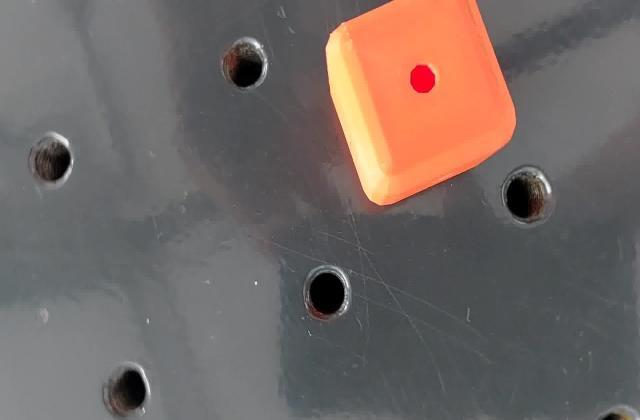cube: (320, 2, 520, 208)
